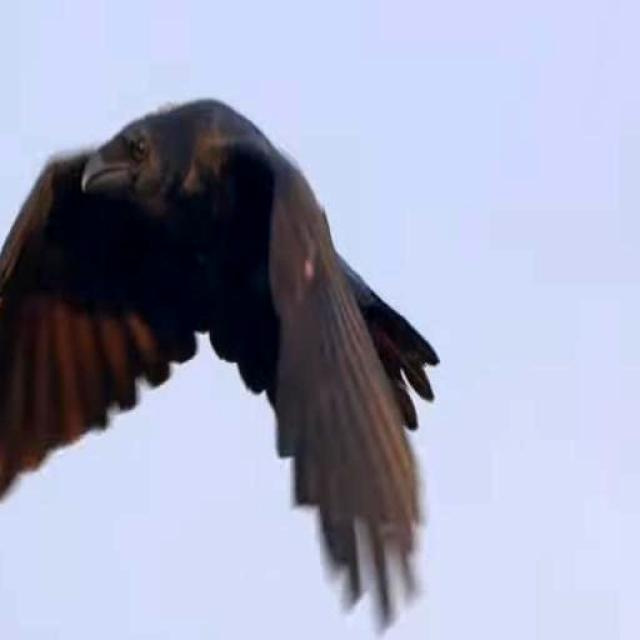airplane: (0, 90, 436, 640)
